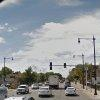Car: (62, 86, 81, 97)
